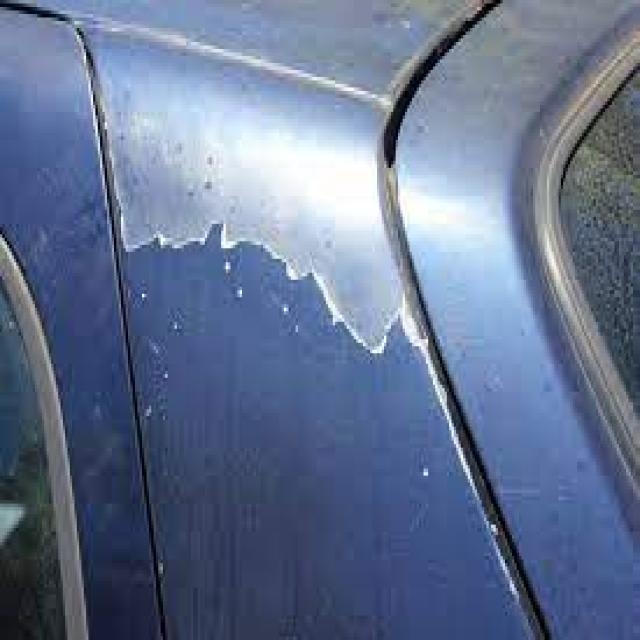paint-chip: (73, 4, 450, 405)
